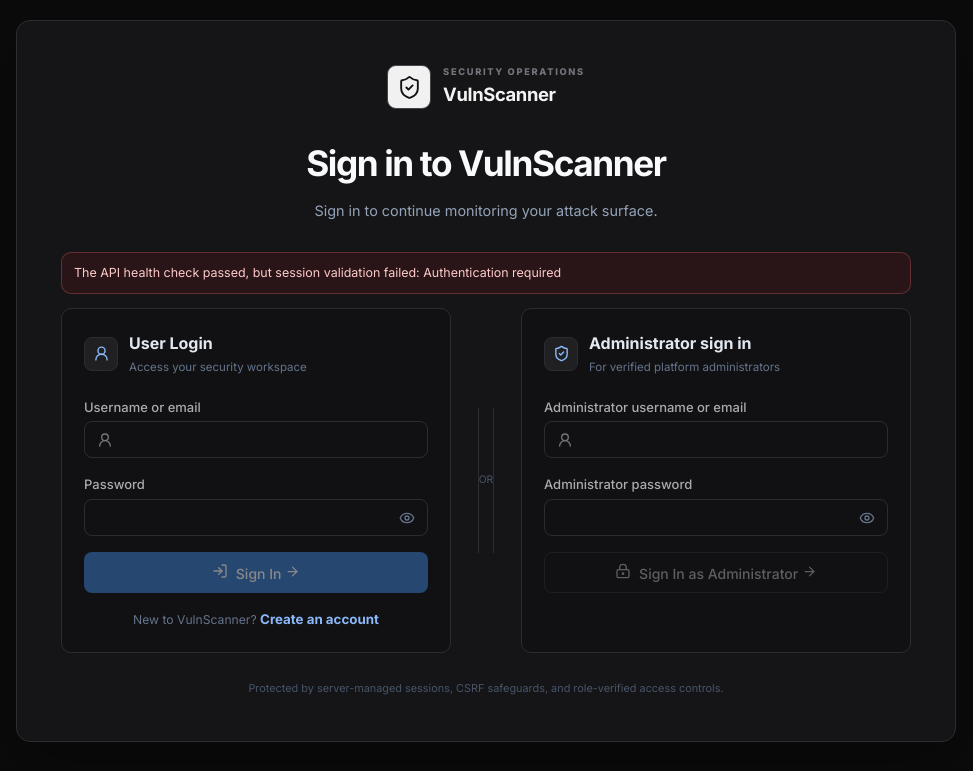
Test: Phase 15 authentication UI regression › keeps administrator credentials on the normal form and surfaces the role mismatch
In the field labelled "Username or email": (276, 440) [125,422,427,457], type "database_admin"
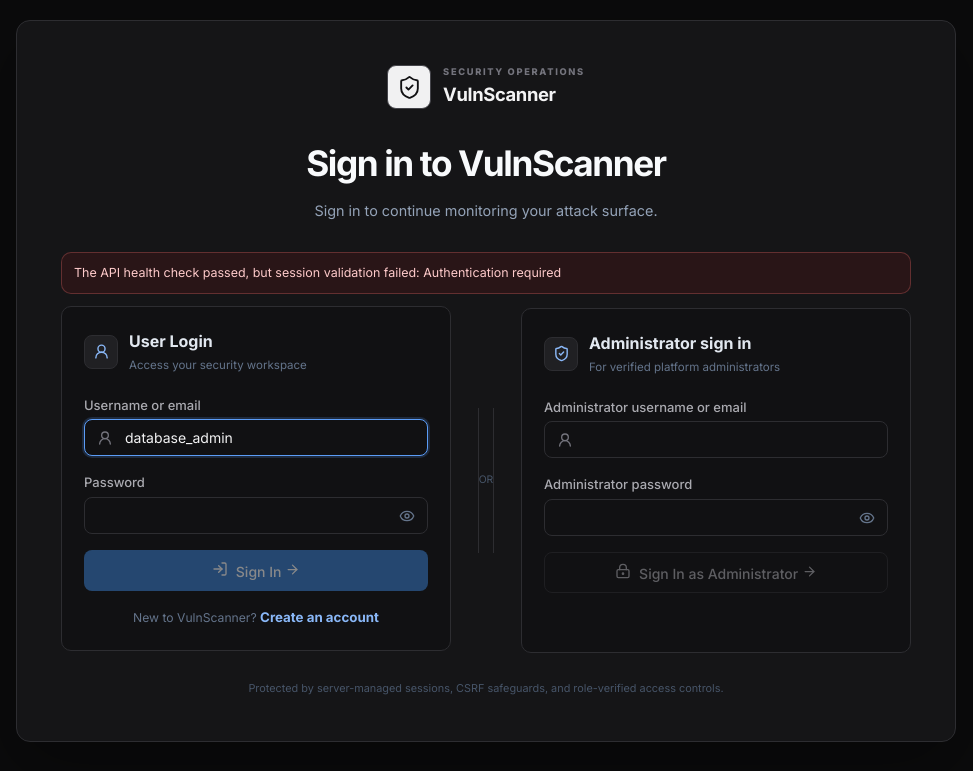
In the password field labelled "Password": (236, 516) [85,498,387,533], type "StrongPassword!42"
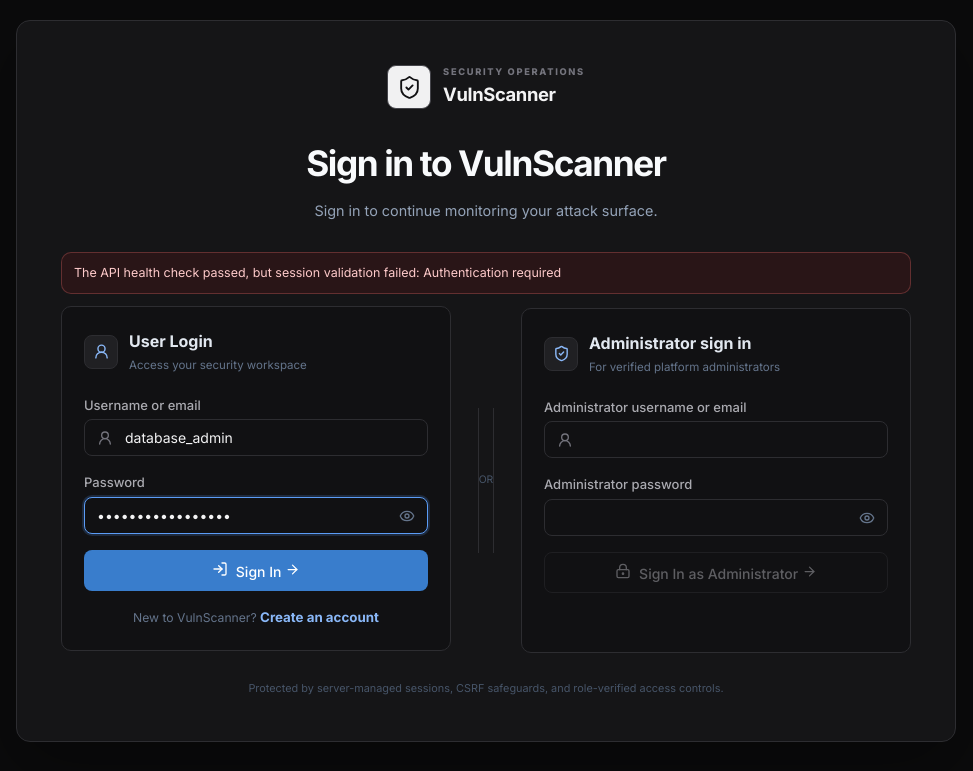
Click the button "Sign In": (256, 571) [84,550,428,591]
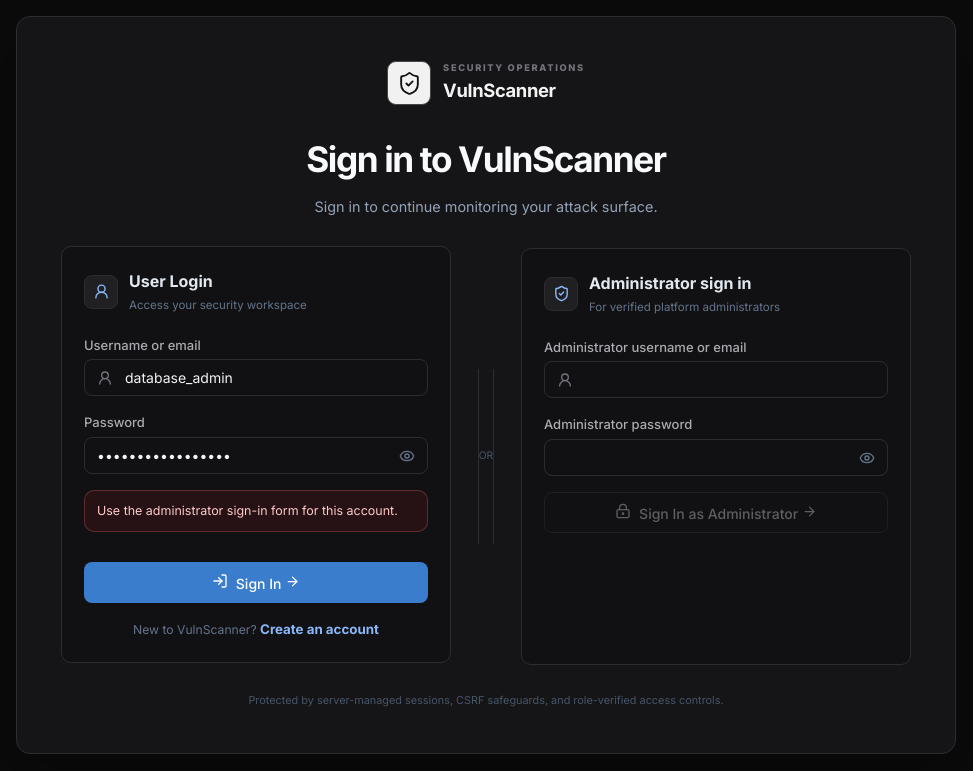
Result: the message shows "Use the administrator sign-in form" at [97,503,398,518]
